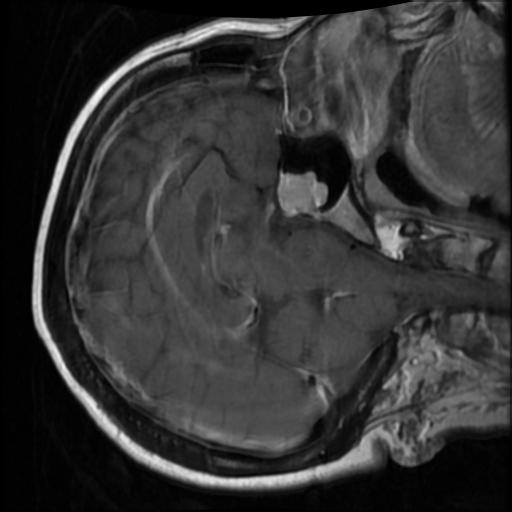pituitary tumour: (277, 172, 327, 215)
